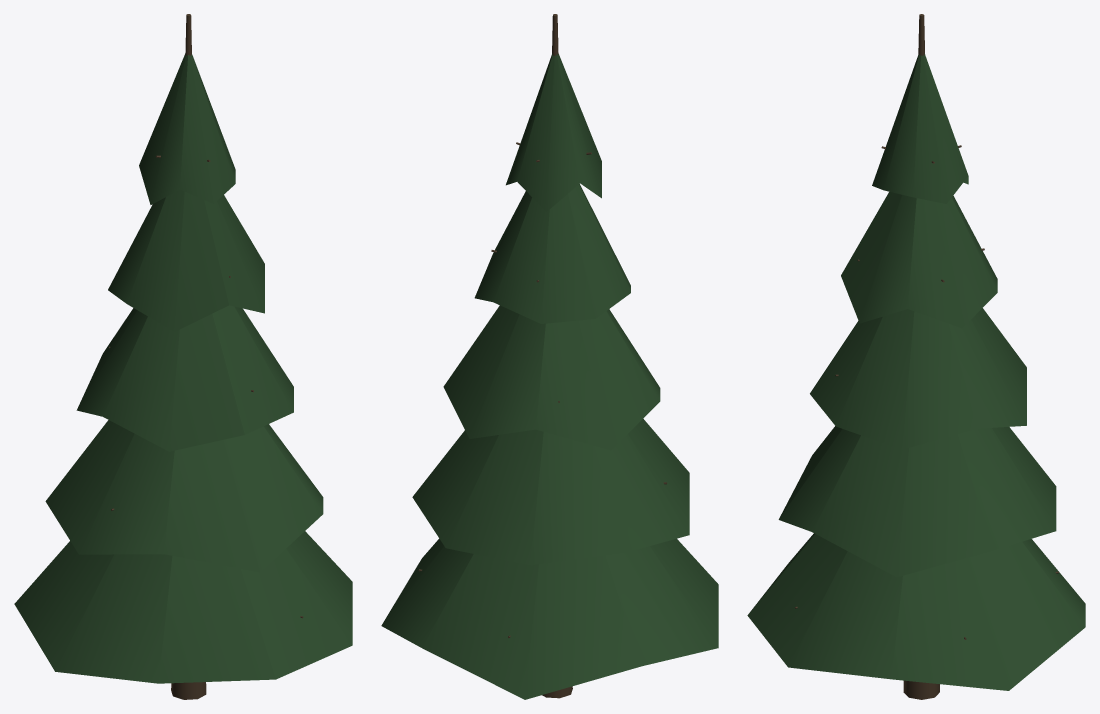
Rendered from tree-conifer.glb.
The picture shows the model from 3 angles, left to right: view 1: azimuth 30°, elevation 25°; view 2: azimuth 150°, elevation 25°; view 3: azimuth 270°, elevation 25°; orthographic projection.
Parts seen in each view (by area): view 1: leaves-1, leaves-2, leaves-3, leaves-4, leaves-5, trunk; view 2: leaves-1, leaves-2, leaves-3, leaves-4, leaves-5; view 3: leaves-1, leaves-2, leaves-3, leaves-4, leaves-5, trunk.
Part boxes in pixels (left/top/right/bottom): leaves-1: left=14, top=531, right=352, bottom=683; leaves-2: left=45, top=420, right=323, bottom=572; leaves-3: left=76, top=305, right=293, bottom=451; leaves-4: left=108, top=189, right=264, bottom=331; leaves-5: left=139, top=53, right=235, bottom=204; trunk: left=171, top=14, right=206, bottom=699; leaves-1: left=381, top=538, right=718, bottom=699; leaves-2: left=412, top=418, right=689, bottom=565; leaves-3: left=443, top=305, right=660, bottom=450; leaves-4: left=474, top=184, right=630, bottom=323; leaves-5: left=506, top=54, right=601, bottom=211; leaves-1: left=747, top=533, right=1085, bottom=690; leaves-2: left=778, top=426, right=1056, bottom=577; leaves-3: left=810, top=308, right=1026, bottom=449; leaves-4: left=841, top=192, right=997, bottom=328; leaves-5: left=872, top=54, right=968, bottom=203; trunk: left=903, top=14, right=939, bottom=699.
Size of the model in its own units: 4.14 by 9 by 4.07.
